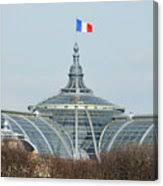French Flag: (75, 17, 94, 34)
